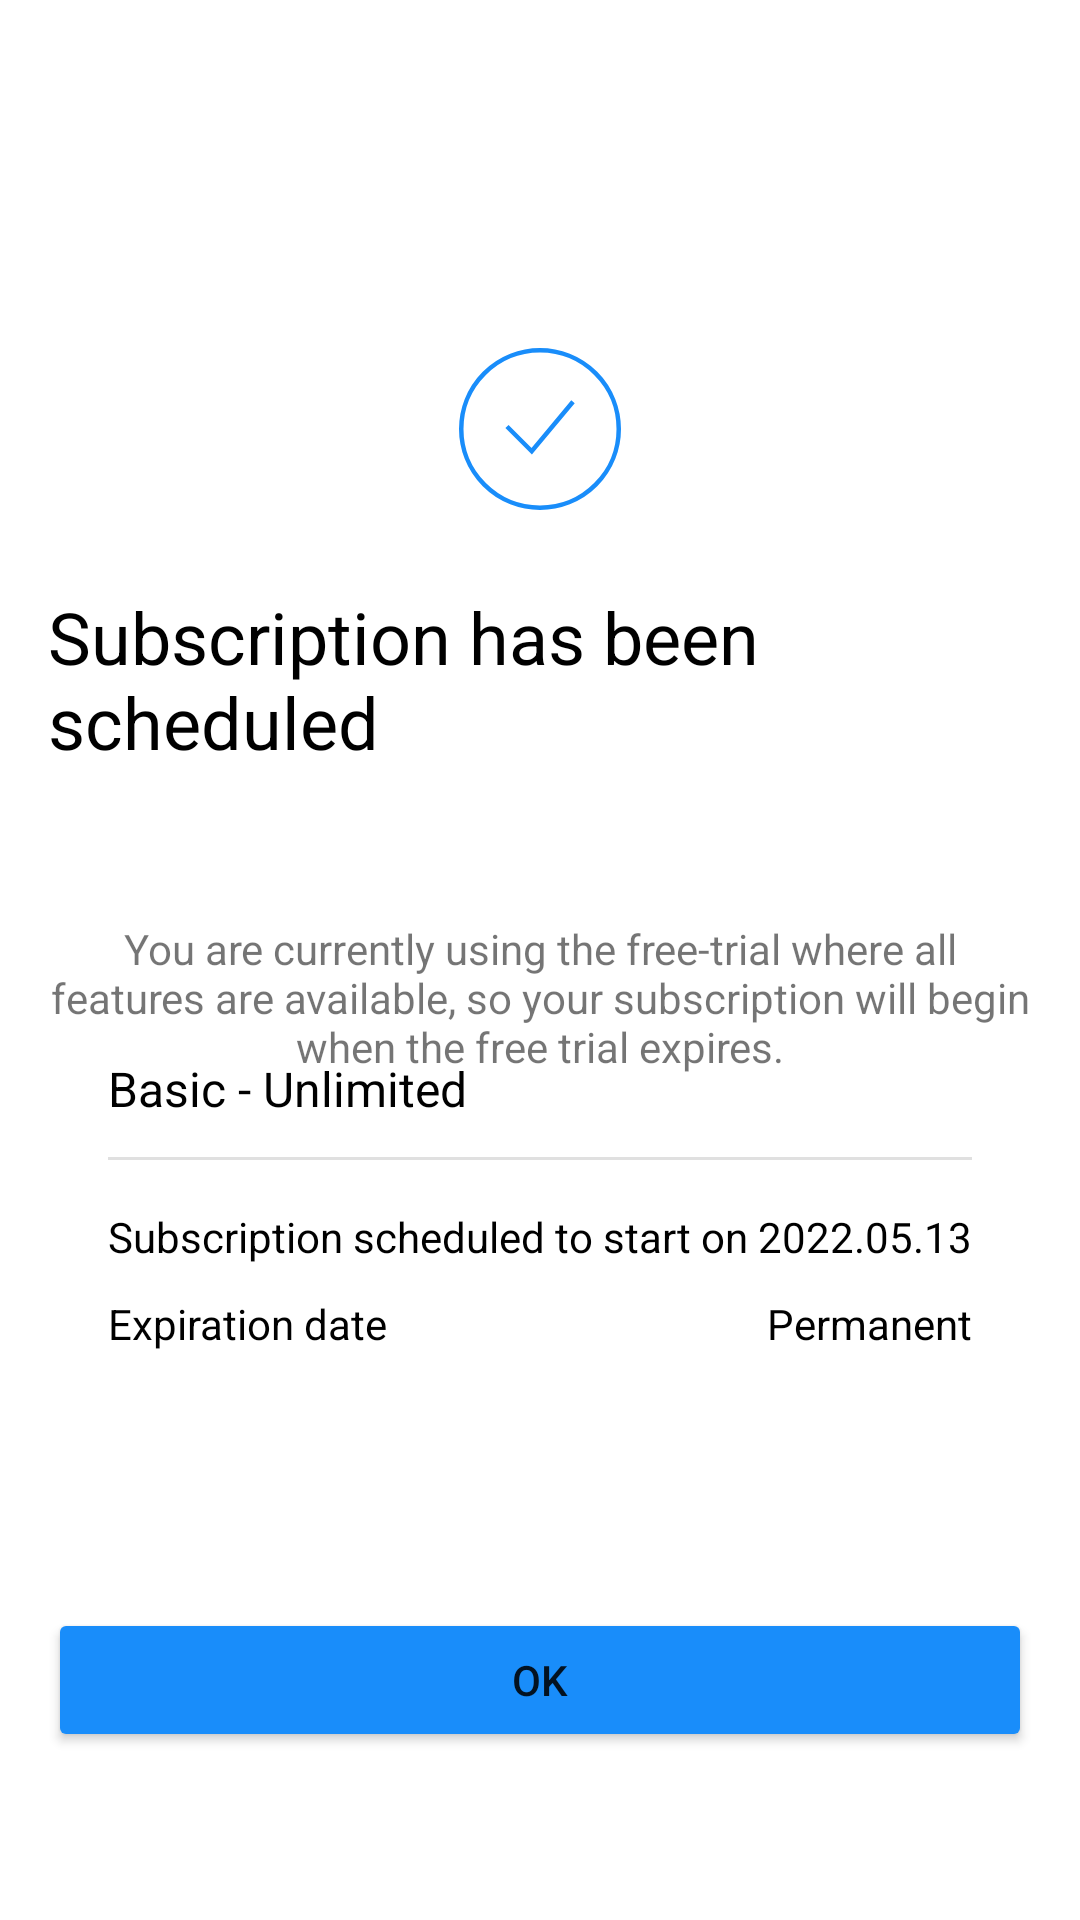

Named icons in this screenshot (1080 x 1920) and their bounding boxes, (x1,y1,x2,y2):
confirm: (459,348,621,510)
